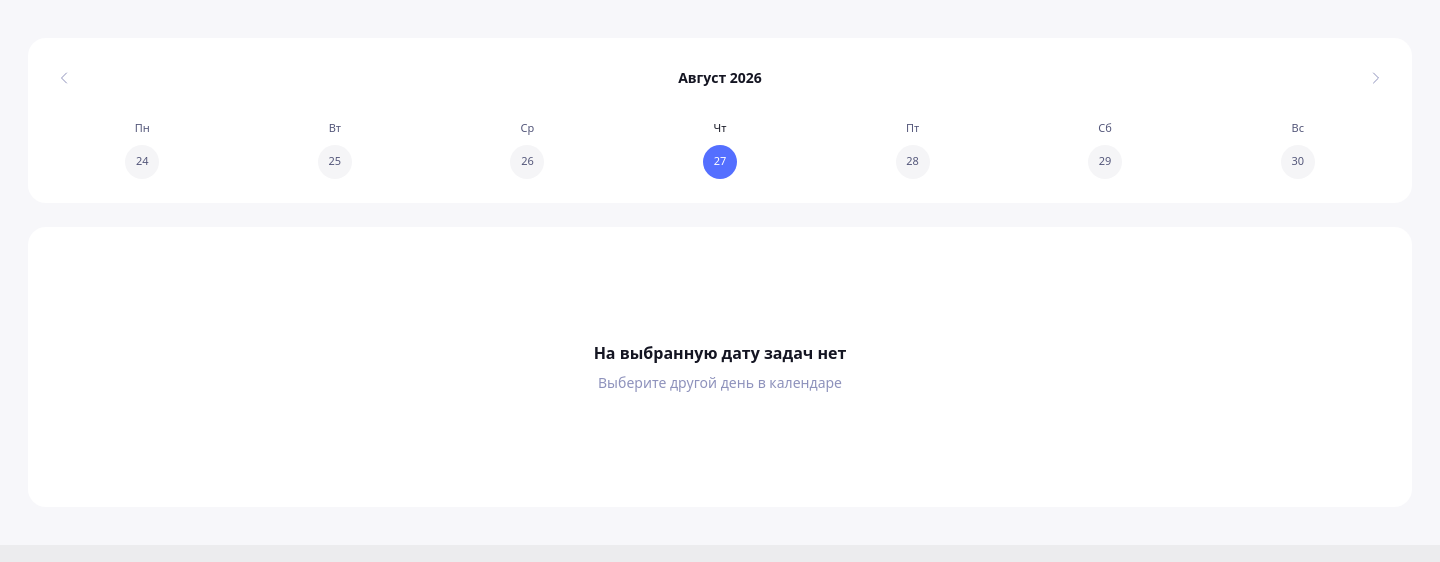
Test: DashboardAside › переключает недели и обновляет заголовок месяца
What coordinates should you click on to do the following:
click the button named "Следующая неделя"
I would click on:
 (1376, 78)
Its box is [1360,62,1392,94].
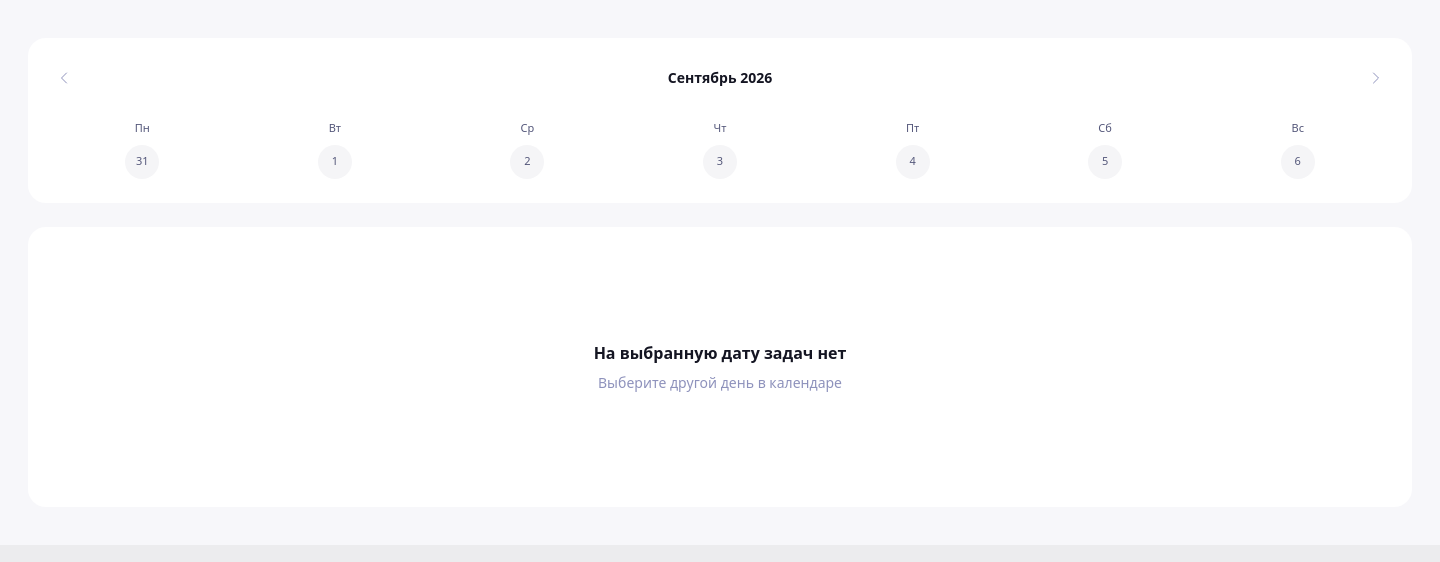
Check: the text "Сентябрь 2026" is shown, box [668,68,772,88]
Check: the button with aria-label "Выбрать 31, Пн" is shown, box [48,116,237,182]
Check: the button with aria-label "Выбрать 6, Вс" is shown, box [1203,116,1392,182]
What coordinates should you click on to do the following:
click the button named "Предыдущая неделя"
I would click on:
 (64, 78)
Its box is [48,62,80,94].
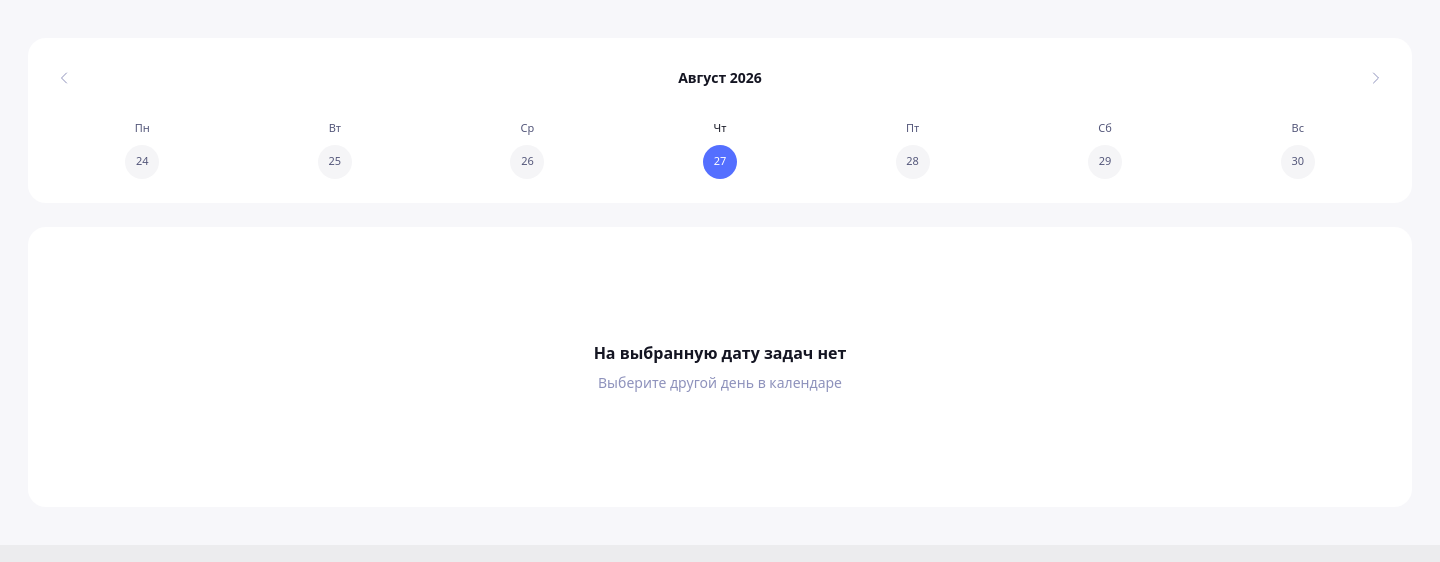
Check: the text "Август 2026" is shown, box [678,68,762,88]
Check: the button with aria-label "Выбрать 27, Чт" is shown, box [626,116,814,182]
